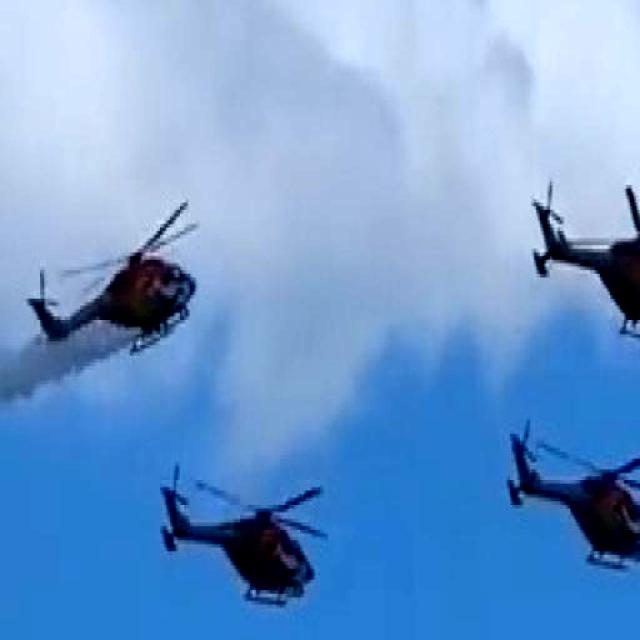drone: (26, 204, 206, 362), (162, 458, 332, 609), (506, 411, 640, 582), (532, 165, 640, 346)
